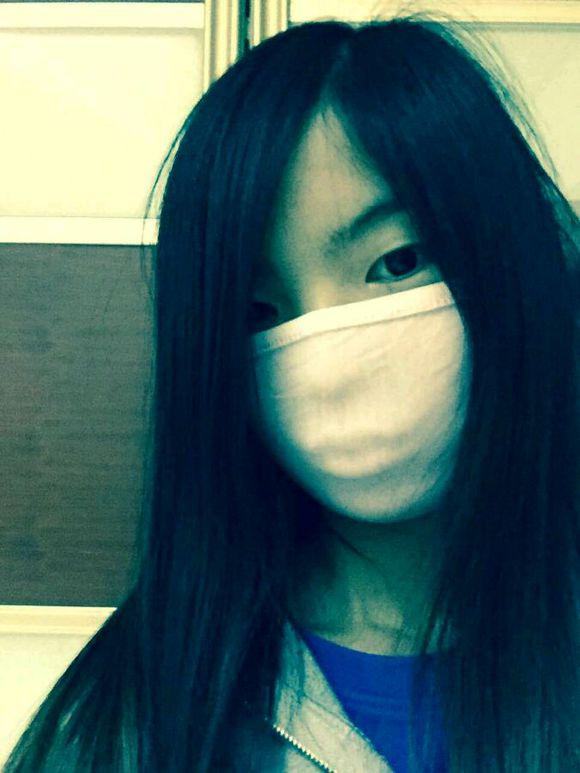OK: (198, 193, 529, 524)
